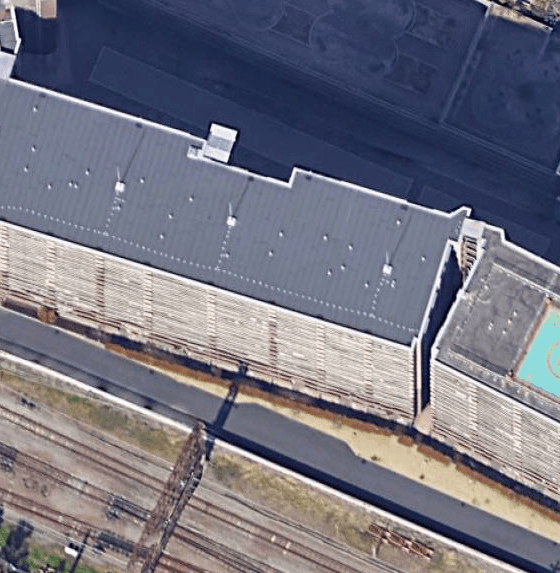flatroof: (0, 85, 467, 358)
